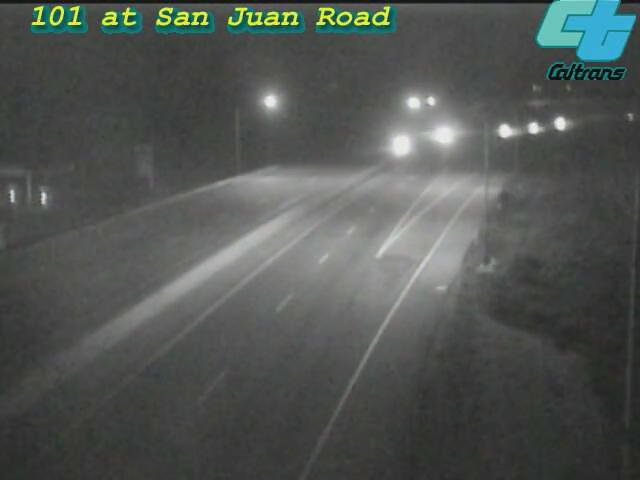vehicle: (383, 117, 433, 167), (420, 110, 470, 160), (535, 99, 585, 149), (506, 103, 556, 153), (477, 107, 527, 157)
